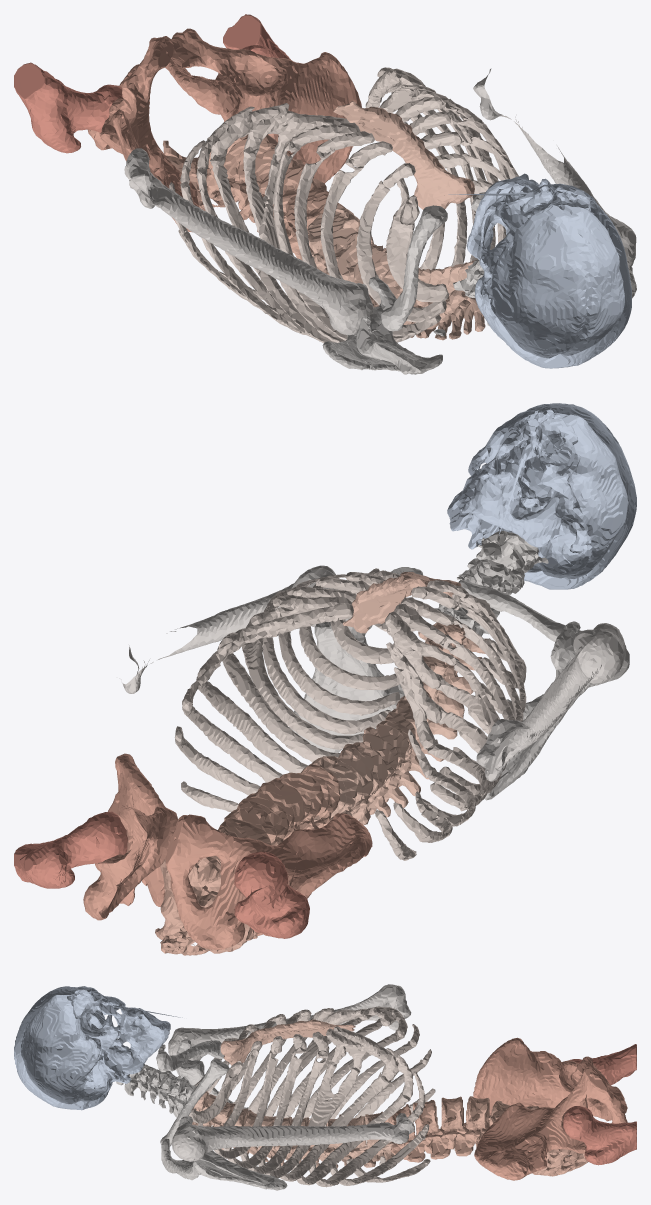
The model's file is ct-skeleton.glb.
The picture shows the model from 3 angles, top to bottom: view 1: azimuth 30°, elevation 25°; view 2: azimuth 150°, elevation 25°; view 3: azimuth 270°, elevation 25°; orthographic projection. The views are drawn at different scales.
Visible parts, largest first — view 1: skull, hip_right, costal_cartilages, humerus_left, hip_left, femur_left, sternum, scapula_left, clavicula_left, humerus_right, rib_left_1, rib_left_2 (+27 smaller); view 2: skull, costal_cartilages, hip_left, hip_right, humerus_left, femur_right, femur_left, scapula_right, humerus_right, scapula_left, rib_right_6, sacrum (+34 smaller); view 3: skull, hip_right, hip_left, humerus_right, costal_cartilages, femur_right, scapula_right, humerus_left, rib_right_6, sternum, rib_right_7, vertebrae_L3 (+33 smaller).
Part boxes in pixels (x1,y1,x2,y2): skull: (448,173,631,368); hip_right: (165,28,361,183); costal_cartilages: (169,67,485,221); humerus_left: (124,148,373,335); hip_left: (88,36,199,232); femur_left: (14,62,136,153); sternum: (333,101,474,209); scapula_left: (322,276,445,374); clavicula_left: (381,205,447,331); humerus_right: (473,68,636,265); rib_left_1: (385,198,448,302); rib_left_2: (356,180,446,322); skull: (447,403,636,589); costal_cartilages: (174,570,478,812); hip_left: (165,813,372,949); hip_right: (83,753,178,920); humerus_left: (476,623,625,781); femur_right: (14,811,133,888); femur_left: (234,851,309,938); scapula_right: (289,617,404,757); humerus_right: (119,565,339,693); scapula_left: (484,621,629,800); rib_right_6: (242,598,363,749); sacrum: (155,858,257,955); skull: (14,986,182,1110); hip_right: (474,1065,627,1180); hip_left: (473,1037,627,1121); humerus_right: (171,1113,414,1161); costal_cartilages: (229,1006,431,1136); femur_right: (563,1106,636,1165); scapula_right: (161,1116,287,1190); humerus_left: (168,984,411,1060); rib_right_6: (258,1061,360,1178); sternum: (220,1019,355,1065); rib_right_7: (276,1072,391,1181); vertebrae_L3: (440,1096,473,1156).
Size of the model in its own units: 437 by 293 by 914.
